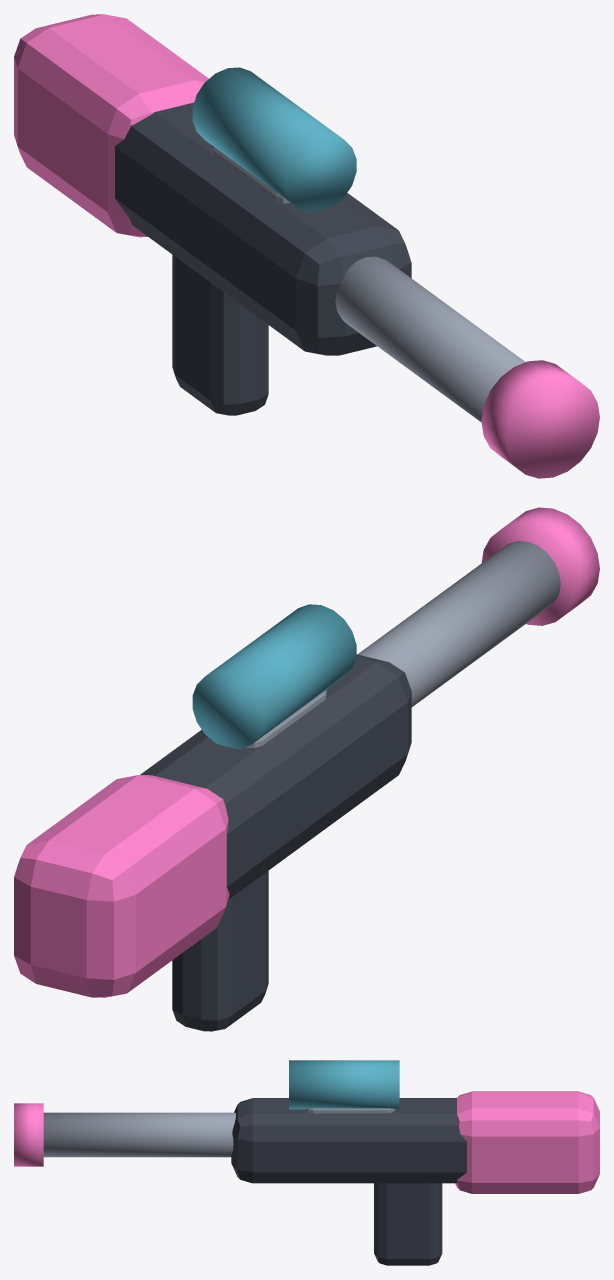
Rendered from charger.glb.
The picture shows the model from 3 angles, top to bottom: view 1: azimuth 30°, elevation 25°; view 2: azimuth 150°, elevation 25°; view 3: azimuth 270°, elevation 25°; orthographic projection. The views are drawn at different scales.
Visible parts, largest first — view 1: charger_body, charger_stock, charger_barrel, charger_scope, charger_grip, charger_tip, scope_mount; view 2: charger_stock, charger_body, charger_barrel, charger_scope, charger_grip, charger_tip, scope_mount; view 3: charger_body, charger_stock, charger_barrel, charger_grip, charger_scope, charger_tip, scope_mount.
Boxes of the visible parts, x1,y1,x2,y2 form: charger_body: [115, 102, 411, 355]; charger_stock: [14, 14, 208, 237]; charger_barrel: [335, 256, 525, 422]; charger_scope: [192, 67, 356, 212]; charger_grip: [172, 255, 268, 415]; charger_tip: [481, 360, 599, 478]; scope_mount: [211, 145, 290, 203]; charger_stock: [14, 775, 229, 997]; charger_body: [140, 654, 411, 899]; charger_barrel: [357, 541, 560, 706]; charger_scope: [192, 604, 356, 748]; charger_grip: [172, 871, 268, 1031]; charger_tip: [481, 507, 599, 625]; scope_mount: [245, 690, 326, 747]; charger_body: [231, 1098, 466, 1183]; charger_stock: [455, 1091, 599, 1193]; charger_barrel: [43, 1112, 235, 1157]; charger_grip: [374, 1183, 442, 1265]; charger_scope: [289, 1060, 399, 1109]; charger_tip: [14, 1103, 43, 1166]; scope_mount: [306, 1108, 395, 1113].
Bounding box in the file's own units: 0.38 × 1.04 × 2.75.
